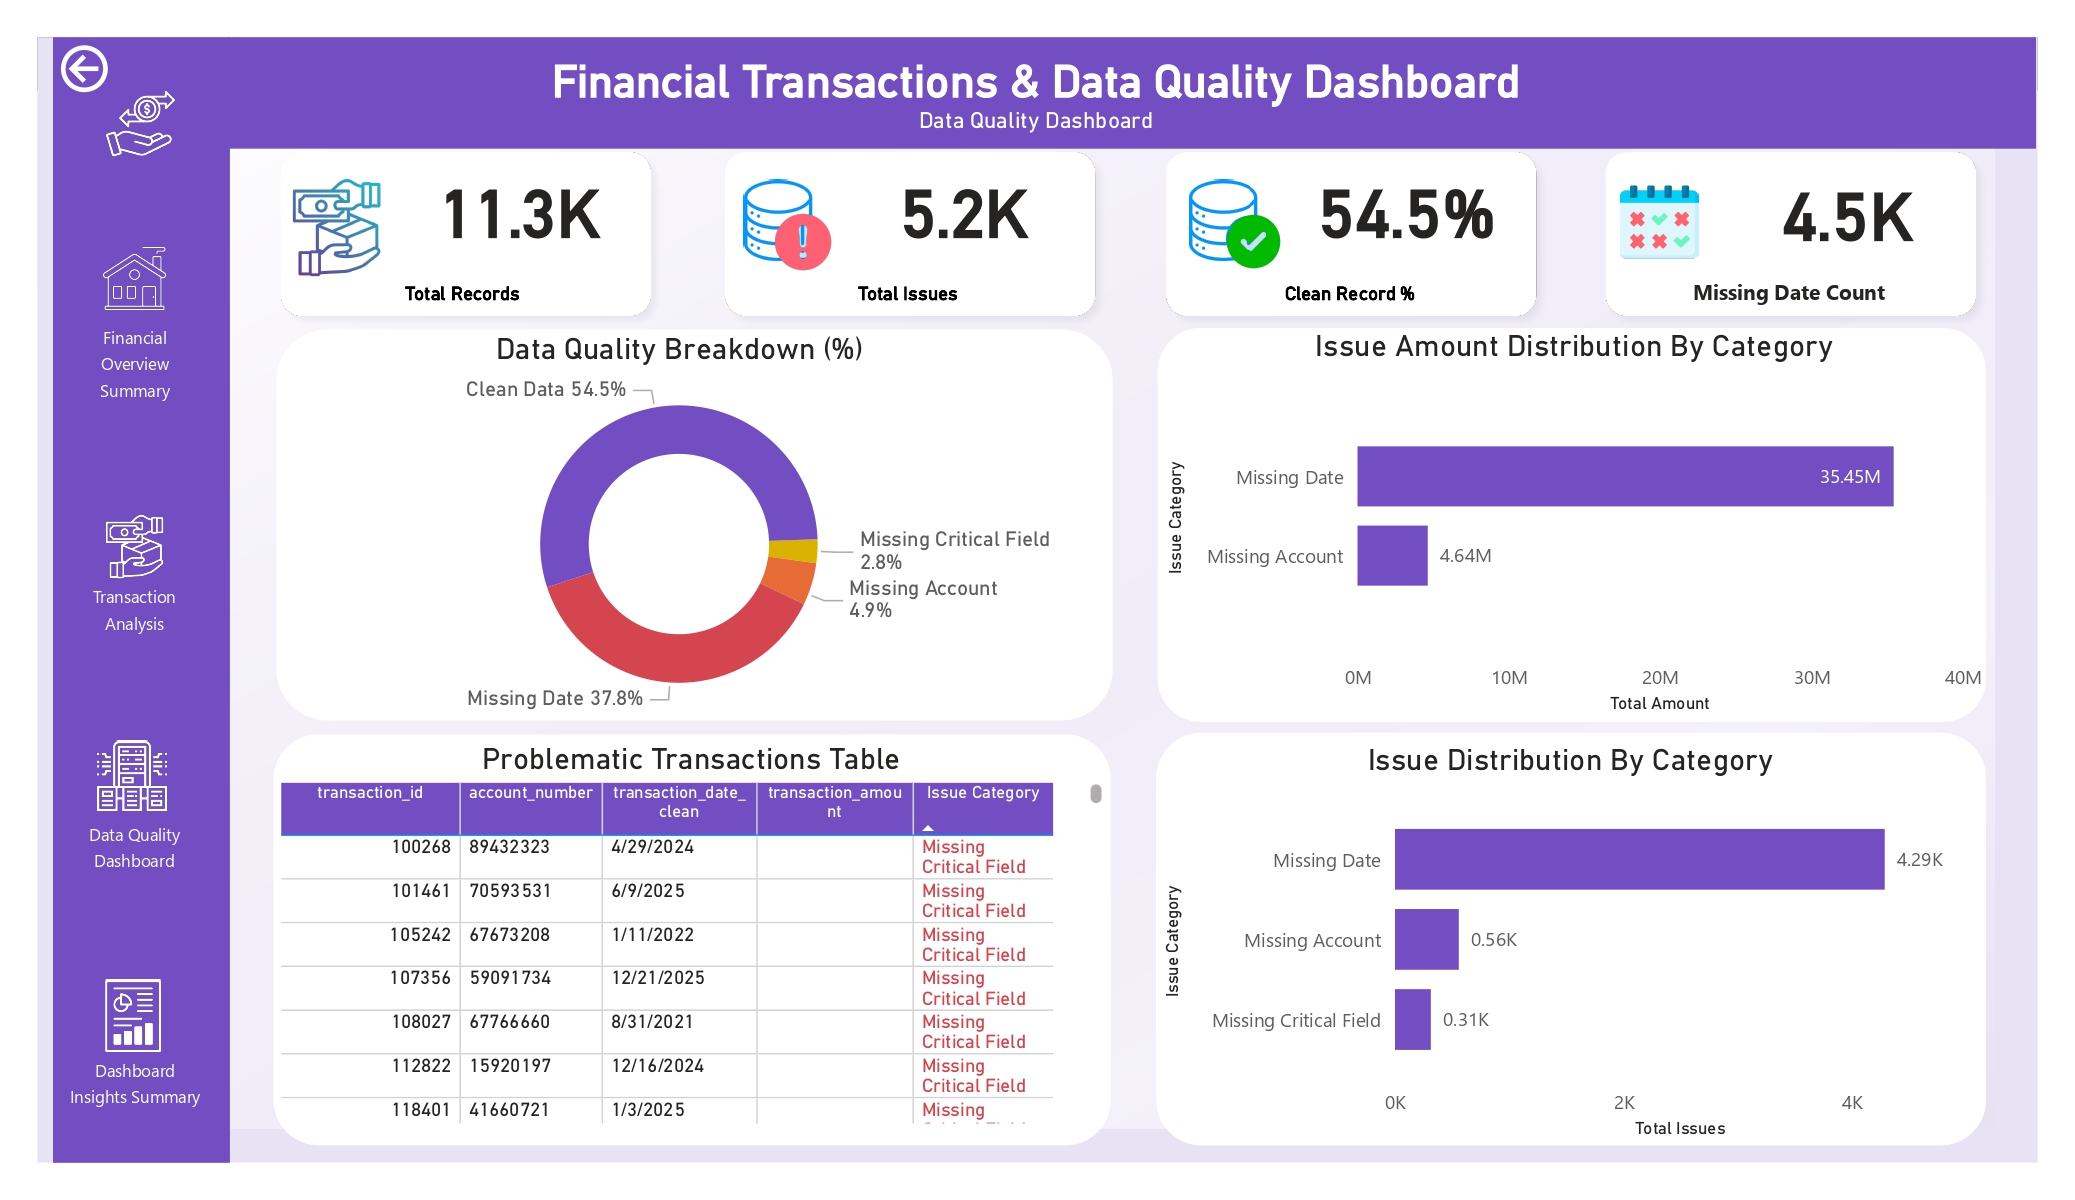

What the dashboard file says about the page in this screenshot:
{"tool":"powerbi","page":{"name":"Data Quality Dashboard","canvas":[1280,720],"ordinal":2},"visuals":[{"type":"group","id":"g1","title":"Group 10","box":[994.9,64,255,122.7],"z":0},{"type":"image","box":[431.6,91,93.5,52.8],"z":0,"group":"g25"},{"type":"group","id":"g2","title":"Group 4","box":[716.2,91.4,93.4,52.8],"z":0,"group":"g23"},{"type":"image","box":[716.2,91.4,93.4,52.8],"z":0,"group":"g2"},{"type":"image","box":[748.4,106.6,61.2,48.4],"z":1000,"group":"g23"},{"type":"image","box":[454.5,106.7,70.6,47.9],"z":1000,"group":"g25"},{"type":"shape","box":[716.9,185.7,529.8,251.9],"z":1000,"group":"g14"},{"type":"shape","box":[715.6,445.5,531.2,263.6],"z":1000,"group":"g13"},{"type":"shape","box":[151.4,445.7,535.7,262.9],"z":1000},{"type":"shape","title":"FINANCE","box":[9.7,0,112.8,719.8],"z":2000},{"type":"actionButton","box":[10.2,0,100,39.8],"z":3000},{"type":"image","box":[35.4,115.4,53.9,77.1],"z":3000,"group":"g22"},{"type":"barChart","title":"Issue Amount Distribution By Category","fields":{"Category":["Cleaned_Finance_Data.issue Category"],"Y":["Table.Total Revenue/Amount"]},"box":[718.1,186.1,531.2,250.5],"z":3000,"group":"g14"},{"type":"barChart","title":"Issue Distribution By Category","fields":{"Y":["Table.Total Transactions"],"Category":["Cleaned_Finance_Data.issue Category"]},"box":[715.6,451.2,529.7,257.9],"z":3000,"group":"g13"},{"type":"group","id":"g3","title":"Group 5","box":[38.9,28.2,54.5,54.5],"z":4000},{"type":"image","box":[38.9,28.2,54.5,54.5],"z":4000,"group":"g3"},{"type":"shape","box":[152.9,187.1,534.9,250.3],"z":4000,"group":"g8"},{"type":"image","box":[34.1,445.9,55.1,55.1],"z":4000,"group":"g21"},{"type":"card","fields":{"Values":["Table.Missing Date Count"]},"box":[1075.4,73.9,166.7,72.5],"z":5000},{"type":"image","box":[34.9,299.3,54.5,54.5],"z":5000,"group":"g20"},{"type":"shape","box":[122.2,0,1157,71],"z":6000,"group":"g15"},{"type":"group","id":"g4","title":"Group 3","box":[146.9,64.2,255,122.7],"z":6000},{"type":"textbox","box":[15.1,177.3,94.9,65],"z":6000,"group":"g22"},{"type":"textbox","box":[15.4,646.5,94.9,65],"z":6000,"group":"g6"},{"type":"textbox","box":[139.2,6,1000,65],"z":7000,"group":"g15"},{"type":"shape","box":[994.9,64,255,122.7],"z":7000,"group":"g17"},{"type":"shape","box":[146.9,64.2,255,122.7],"z":7000,"group":"g4"},{"type":"group","id":"g5","title":"Group 10","box":[431.3,64.5,255,122.7],"z":7000},{"type":"shape","box":[431.3,64.5,255,122.7],"z":7000,"group":"g18"},{"type":"shape","box":[713.1,64.5,255,122.7],"z":7000,"group":"g19"},{"type":"group","id":"g6","title":"Group 9","box":[15.4,646.5,94.9,65],"z":7000,"group":"g24"},{"type":"group","id":"g7","title":"Group 11","box":[713.1,64.5,255,122.7],"z":8000},{"type":"card","fields":{"Values":["Table.Total Transactions"]},"box":[224.9,71.7,166.6,72.5],"z":9000,"group":"g9"},{"type":"card","fields":{"Values":["Table.Data Issue Count"]},"box":[509.4,72,166.6,72.5],"z":9000,"group":"g10"},{"type":"card","fields":{"Values":["Table.Clean %"]},"box":[792.8,72,166.6,72.5],"z":9000,"group":"g11"},{"type":"donutChart","title":"Data Quality Breakdown (%)","fields":{"Y":["Table.Total Transactions"],"Category":["Cleaned_Finance_Data.Issue Category"]},"box":[152.9,188.3,534.9,250.3],"z":9000,"group":"g8"},{"type":"tableEx","title":"Problematic Transactions Table","fields":{"Values":["Cleaned_Finance_Data.transaction_id","Cleaned_Finance_Data.account_number","Cleaned_Finance_Data.transaction_date_clean","Cleaned_Finance_Data.transaction_amount","Cleaned_Finance_Data.Issue Category"]},"box":[150,450,537.1,250],"z":9000},{"type":"image","box":[153.3,71.7,77,97.6],"z":10000,"group":"g9"},{"type":"group","id":"g8","title":"Group 12","box":[152.9,187.1,534.3,250],"z":10000},{"type":"textbox","box":[14.4,343,95.9,45.9],"z":10000,"group":"g20"},{"type":"image","box":[994.8,88.3,85.7,59.7],"z":11000},{"type":"textbox","box":[1025.5,148.5,189.9,32.2],"z":11000,"group":"g12"},{"type":"textbox","box":[177.5,148.7,189.9,32.2],"z":11000,"group":"g9"},{"type":"textbox","box":[461.9,149,189.9,32.2],"z":11000,"group":"g10"},{"type":"textbox","box":[745.3,149,189.9,32.2],"z":11000,"group":"g11"},{"type":"textbox","box":[14.7,495.9,95.9,45.9],"z":11000,"group":"g21"},{"type":"group","id":"g9","title":"Group 2","box":[153.3,71.7,238.2,109.3],"z":11001,"group":"g4"},{"type":"group","id":"g10","title":"Group 2","box":[461.9,72,214,109.3],"z":11001,"group":"g18"},{"type":"group","id":"g11","title":"Group 2","box":[745.3,72,214,109.3],"z":11001,"group":"g19"},{"type":"group","id":"g12","title":"Group 2","box":[1025.5,148.5,189.9,32.2],"z":11001,"group":"g17"},{"type":"group","id":"g13","title":"Group 13","box":[715.6,445.5,531.2,263.6],"z":12000},{"type":"group","id":"g14","title":"Group 14","box":[716.9,185.7,532.5,251.9],"z":13000},{"type":"group","id":"g15","title":"Group 4","box":[122.2,0,1156.7,71.1],"z":14000},{"type":"group","id":"g16","title":"Group 6","box":[14.4,115.4,96.2,596.2],"z":15000},{"type":"image","box":[28.2,598.7,65.4,56.4],"z":15009,"group":"g24"},{"type":"group","id":"g17","title":"Group 3","box":[994.9,64,255,122.7],"z":22000,"group":"g1"},{"type":"group","id":"g18","title":"Group 3","box":[431.3,64.5,255,122.7],"z":22000,"group":"g5"},{"type":"group","id":"g19","title":"Group 3","box":[713.1,64.5,255,122.7],"z":24000,"group":"g7"},{"type":"group","id":"g20","title":"Group 7","box":[14.4,299.3,95.9,89.6],"z":24000,"group":"g16"},{"type":"group","id":"g21","title":"Group 8","box":[14.7,445.9,95.9,95.9],"z":25000,"group":"g16"},{"type":"group","id":"g22","title":"Group 9","box":[15.1,115.4,94.9,126.9],"z":26000,"group":"g16"},{"type":"group","id":"g23","title":"Group 6","box":[716.2,91.4,93.4,63.6],"z":27000,"group":"g7"},{"type":"group","id":"g24","title":"Group 1","box":[15.4,598.7,94.9,112.8],"z":27000,"group":"g16"},{"type":"group","id":"g25","title":"Group 4","box":[431.6,91,93.5,63.6],"z":28000,"group":"g5"}]}

Visuals, with their boxes on the page's 1280x720 design canvas (x1, y1, x2, y2). These are canvas units, not pixel positions in the 2075x1200 screenshot, which may show the page scaled, cropped or inside an application window:
"Group 10" group: <region>995, 64, 1250, 187</region>
image: <region>432, 91, 525, 144</region>
"Group 4" group: <region>716, 91, 810, 144</region>
image: <region>716, 91, 810, 144</region>
image: <region>748, 107, 810, 155</region>
image: <region>454, 107, 525, 155</region>
shape: <region>717, 186, 1247, 438</region>
shape: <region>716, 446, 1247, 709</region>
shape: <region>151, 446, 687, 709</region>
"FINANCE" shape: <region>10, 0, 122, 720</region>
actionButton: <region>10, 0, 110, 40</region>
image: <region>35, 115, 89, 192</region>
"Issue Amount Distribution By Category" barChart: <region>718, 186, 1249, 437</region>
"Issue Distribution By Category" barChart: <region>716, 451, 1245, 709</region>
"Group 5" group: <region>39, 28, 93, 83</region>
image: <region>39, 28, 93, 83</region>
shape: <region>153, 187, 688, 437</region>
image: <region>34, 446, 89, 501</region>
card - Table.Missing Date Count: <region>1075, 74, 1242, 146</region>
image: <region>35, 299, 89, 354</region>
shape: <region>122, 0, 1279, 71</region>
"Group 3" group: <region>147, 64, 402, 187</region>
textbox: <region>15, 177, 110, 242</region>
textbox: <region>15, 646, 110, 712</region>
textbox: <region>139, 6, 1139, 71</region>
shape: <region>995, 64, 1250, 187</region>
shape: <region>147, 64, 402, 187</region>
"Group 10" group: <region>431, 64, 686, 187</region>
shape: <region>431, 64, 686, 187</region>
shape: <region>713, 64, 968, 187</region>
"Group 9" group: <region>15, 646, 110, 712</region>
"Group 11" group: <region>713, 64, 968, 187</region>
card - Table.Total Transactions: <region>225, 72, 392, 144</region>
card - Table.Data Issue Count: <region>509, 72, 676, 144</region>
card - Table.Clean %: <region>793, 72, 959, 144</region>
"Data Quality Breakdown (%)" donutChart: <region>153, 188, 688, 439</region>
"Problematic Transactions Table" tableEx: <region>150, 450, 687, 700</region>
image: <region>153, 72, 230, 169</region>
"Group 12" group: <region>153, 187, 687, 437</region>
textbox: <region>14, 343, 110, 389</region>
image: <region>995, 88, 1080, 148</region>
textbox: <region>1026, 148, 1215, 181</region>
textbox: <region>178, 149, 367, 181</region>
textbox: <region>462, 149, 652, 181</region>
textbox: <region>745, 149, 935, 181</region>
textbox: <region>15, 496, 111, 542</region>
"Group 2" group: <region>153, 72, 392, 181</region>
"Group 2" group: <region>462, 72, 676, 181</region>
"Group 2" group: <region>745, 72, 959, 181</region>
"Group 2" group: <region>1026, 148, 1215, 181</region>
"Group 13" group: <region>716, 446, 1247, 709</region>
"Group 14" group: <region>717, 186, 1249, 438</region>
"Group 4" group: <region>122, 0, 1279, 71</region>
"Group 6" group: <region>14, 115, 111, 712</region>
image: <region>28, 599, 94, 655</region>
"Group 3" group: <region>995, 64, 1250, 187</region>
"Group 3" group: <region>431, 64, 686, 187</region>
"Group 3" group: <region>713, 64, 968, 187</region>
"Group 7" group: <region>14, 299, 110, 389</region>
"Group 8" group: <region>15, 446, 111, 542</region>
"Group 9" group: <region>15, 115, 110, 242</region>
"Group 6" group: <region>716, 91, 810, 155</region>
"Group 1" group: <region>15, 599, 110, 712</region>
"Group 4" group: <region>432, 91, 525, 155</region>
